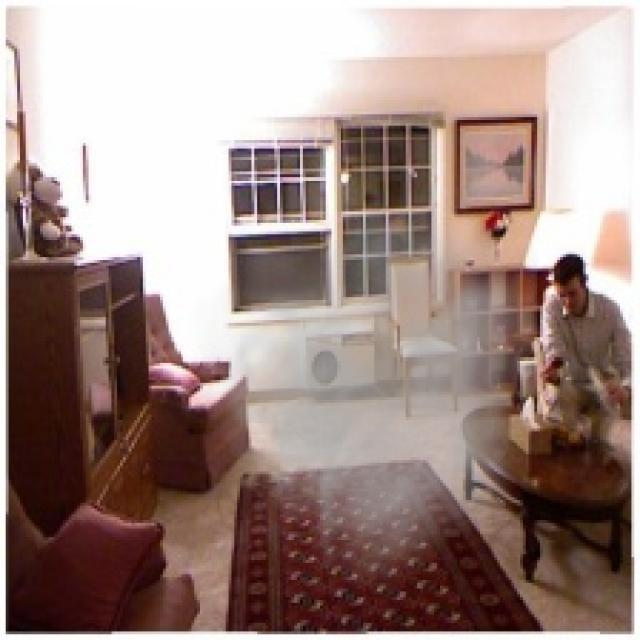Smoke: (188, 180, 538, 600)
